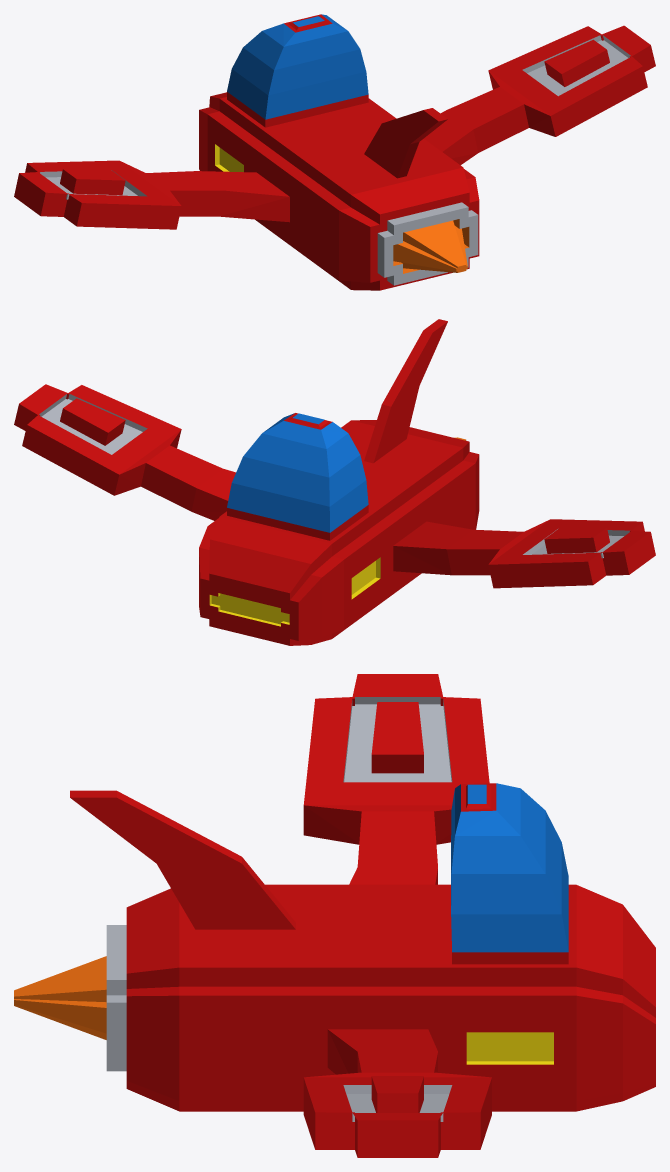
Rendered from hoverpiilder.obj.
The picture shows the model from 3 angles, top to bottom: view 1: azimuth 30°, elevation 25°; view 2: azimuth 150°, elevation 25°; view 3: azimuth 270°, elevation 25°; orthographic projection. The views are drawn at different scales.
Parts seen in each view (by area): view 1: Nave; view 2: Nave; view 3: Nave.
Part boxes in pixels (x1,y1,x2,y2): Nave: [14, 14, 655, 290]; Nave: [14, 319, 655, 645]; Nave: [14, 674, 655, 1157].
Size of the model in its own units: 8.11 by 2.3 by 4.85.
